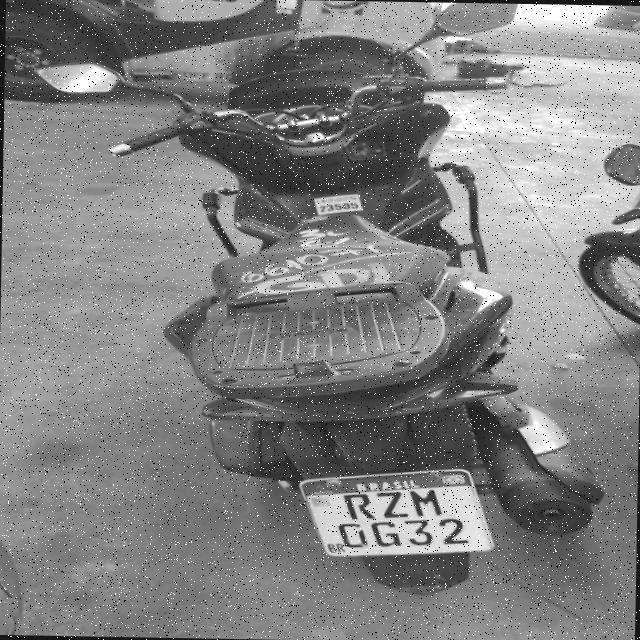Caractere: (408, 488, 444, 516), (342, 492, 376, 520), (376, 490, 410, 518), (338, 520, 369, 548), (404, 518, 434, 546), (370, 521, 402, 547), (438, 518, 470, 544)
